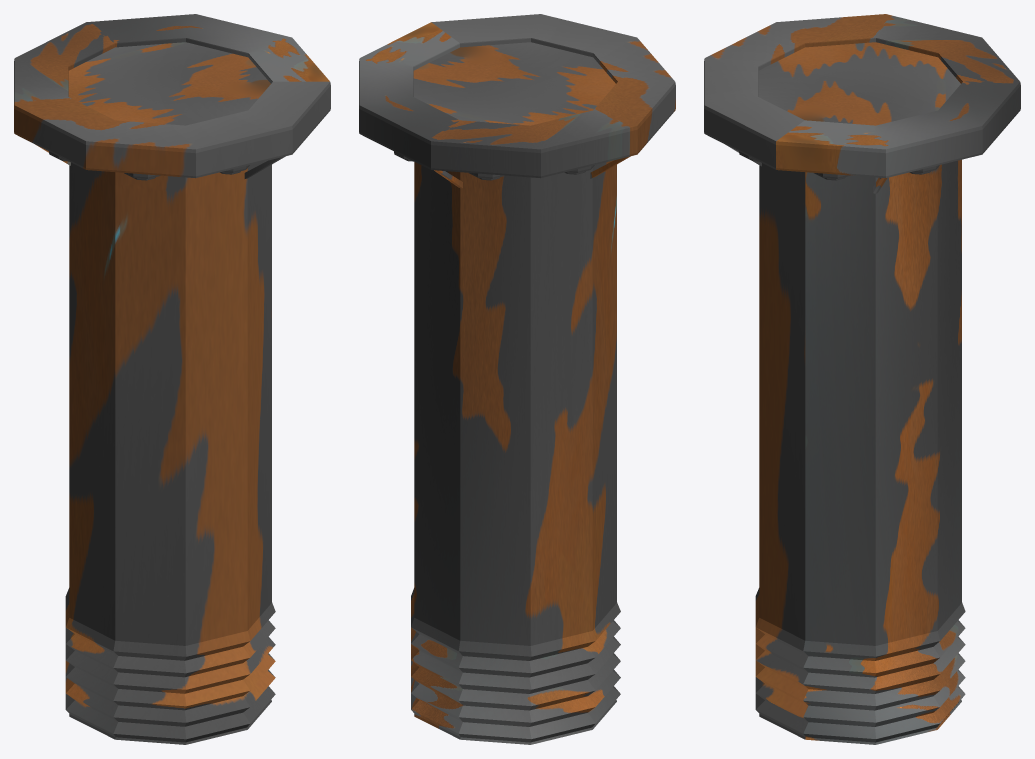
File: Pipe.fbx
The picture shows the model from 3 angles, left to right: view 1: azimuth 30°, elevation 25°; view 2: azimuth 150°, elevation 25°; view 3: azimuth 270°, elevation 25°; orthographic projection.
Parts seen in each view (by area): view 1: Cylinder; view 2: Cylinder; view 3: Cylinder.
Part boxes in pixels (x1=…): Cylinder: x1=14, y1=14, x2=330, y2=744; Cylinder: x1=359, y1=14, x2=675, y2=744; Cylinder: x1=704, y1=14, x2=1020, y2=744.
Size of the model in its own units: 308 by 654 by 303.
